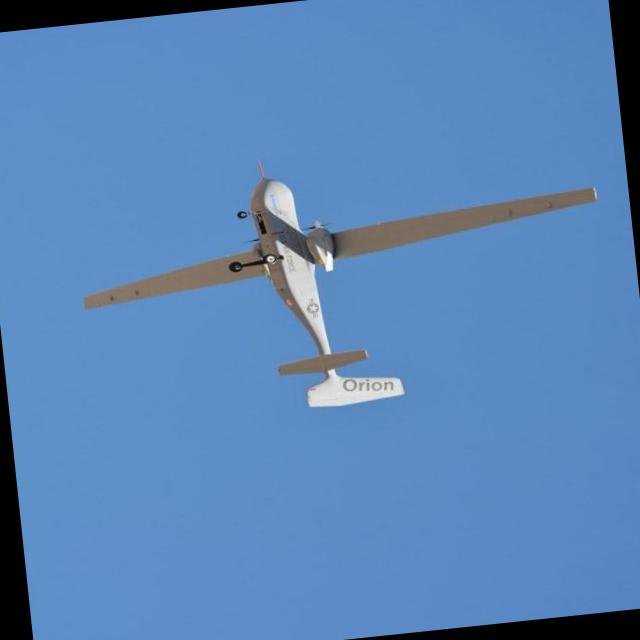UAV: (50, 150, 598, 454)
